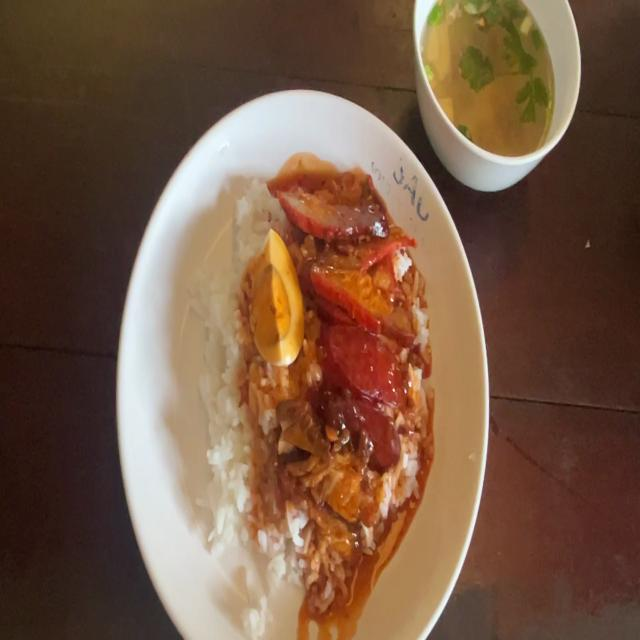01boiled_egg: (250, 242, 298, 362)
01chainese_sausage: (322, 332, 413, 454)
01crispy_pork: (295, 462, 379, 567), (274, 402, 313, 499)
01red_pork: (297, 192, 425, 315)
01red_pork_and_crispy_pork: (186, 187, 422, 601)
01rice: (193, 384, 272, 616), (203, 266, 244, 375), (221, 185, 264, 253)
